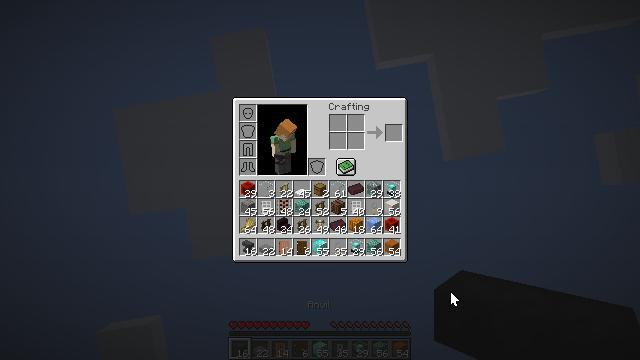cursor: (450, 291, 460, 307)
